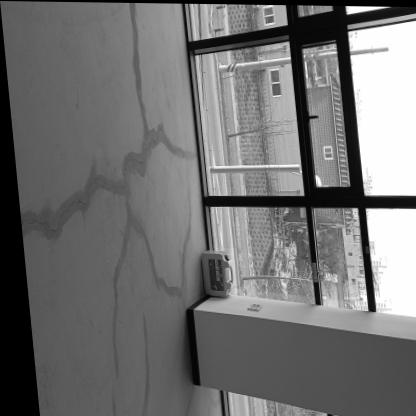DDL: (196, 249, 229, 295)
